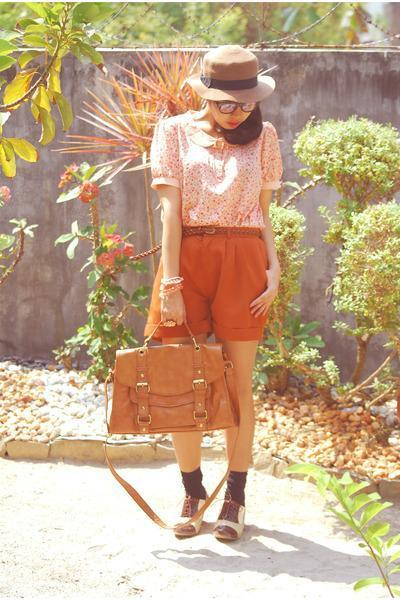bag: (94, 331, 240, 436)
hat: (180, 43, 276, 114)
shirt: (132, 109, 289, 227)
shoe: (148, 492, 242, 544)
shorts: (139, 223, 270, 347)
